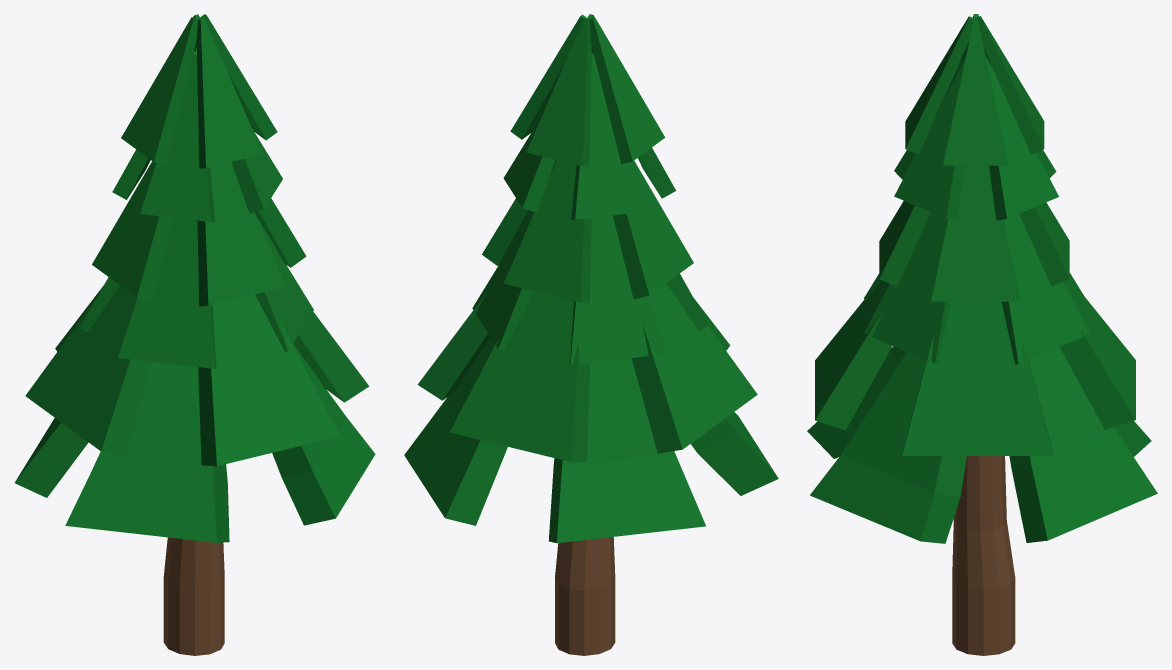
The model's file is PineTree.fbx.
3 views of the same model, side by side, from view 1: azimuth 30°, elevation 25°; view 2: azimuth 150°, elevation 25°; view 3: azimuth 270°, elevation 25° (orthographic).
Parts seen in each view (by area): view 1: Leaves, Tree; view 2: Leaves, Tree; view 3: Leaves, Tree.
Part boxes in pixels (x1,y1,x2,y2): Leaves: (14, 14, 375, 542); Tree: (163, 537, 224, 655); Leaves: (404, 14, 778, 543); Tree: (555, 537, 615, 655); Leaves: (807, 14, 1157, 543); Tree: (952, 456, 1015, 655).
Size of the model in its own units: 496 by 952 by 483.
